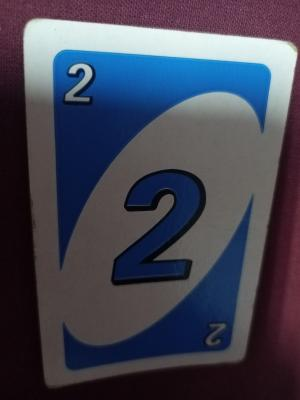num_2: (103, 160, 212, 294), (59, 61, 109, 111), (201, 313, 235, 354)
